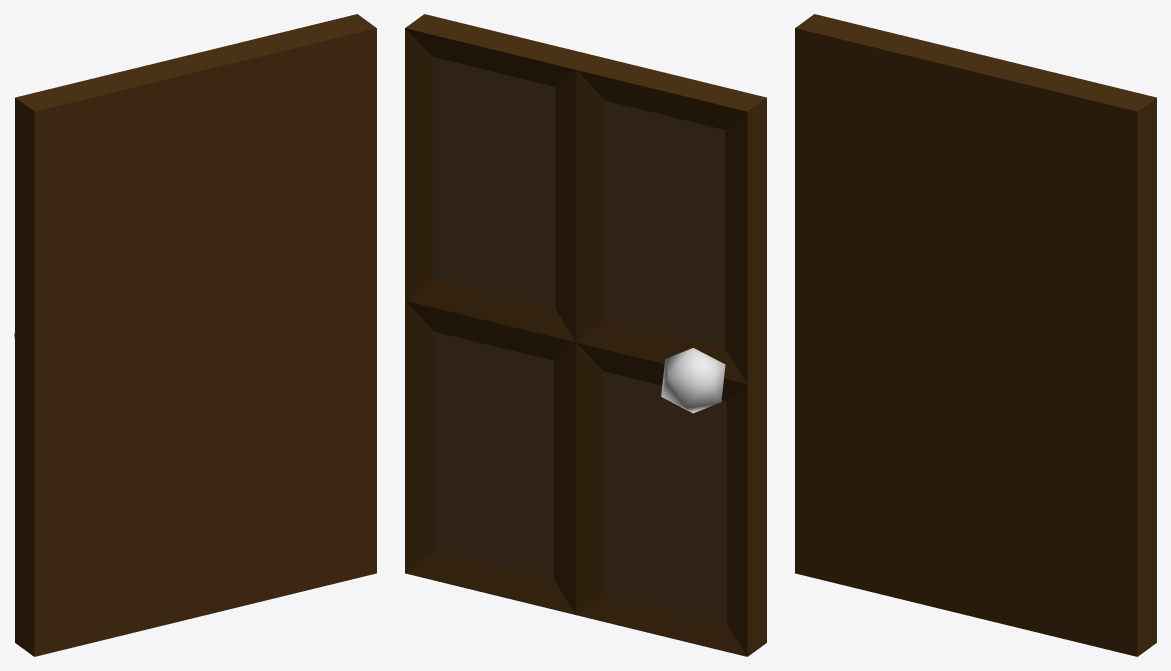
The model's file is door.fbx.
3 views of the same model, side by side, from view 1: azimuth 30°, elevation 25°; view 2: azimuth 150°, elevation 25°; view 3: azimuth 330°, elevation 25° (orthographic).
Parts seen in each view (by area): view 1: Cube.012; view 2: Cube.012; view 3: Cube.012.
Part boxes in pixels (bbox=[...]): Cube.012: bbox=[14, 14, 376, 656]; Cube.012: bbox=[405, 14, 766, 656]; Cube.012: bbox=[795, 14, 1156, 656].
Size of the model in its own units: 206 by 314 by 48.24.
